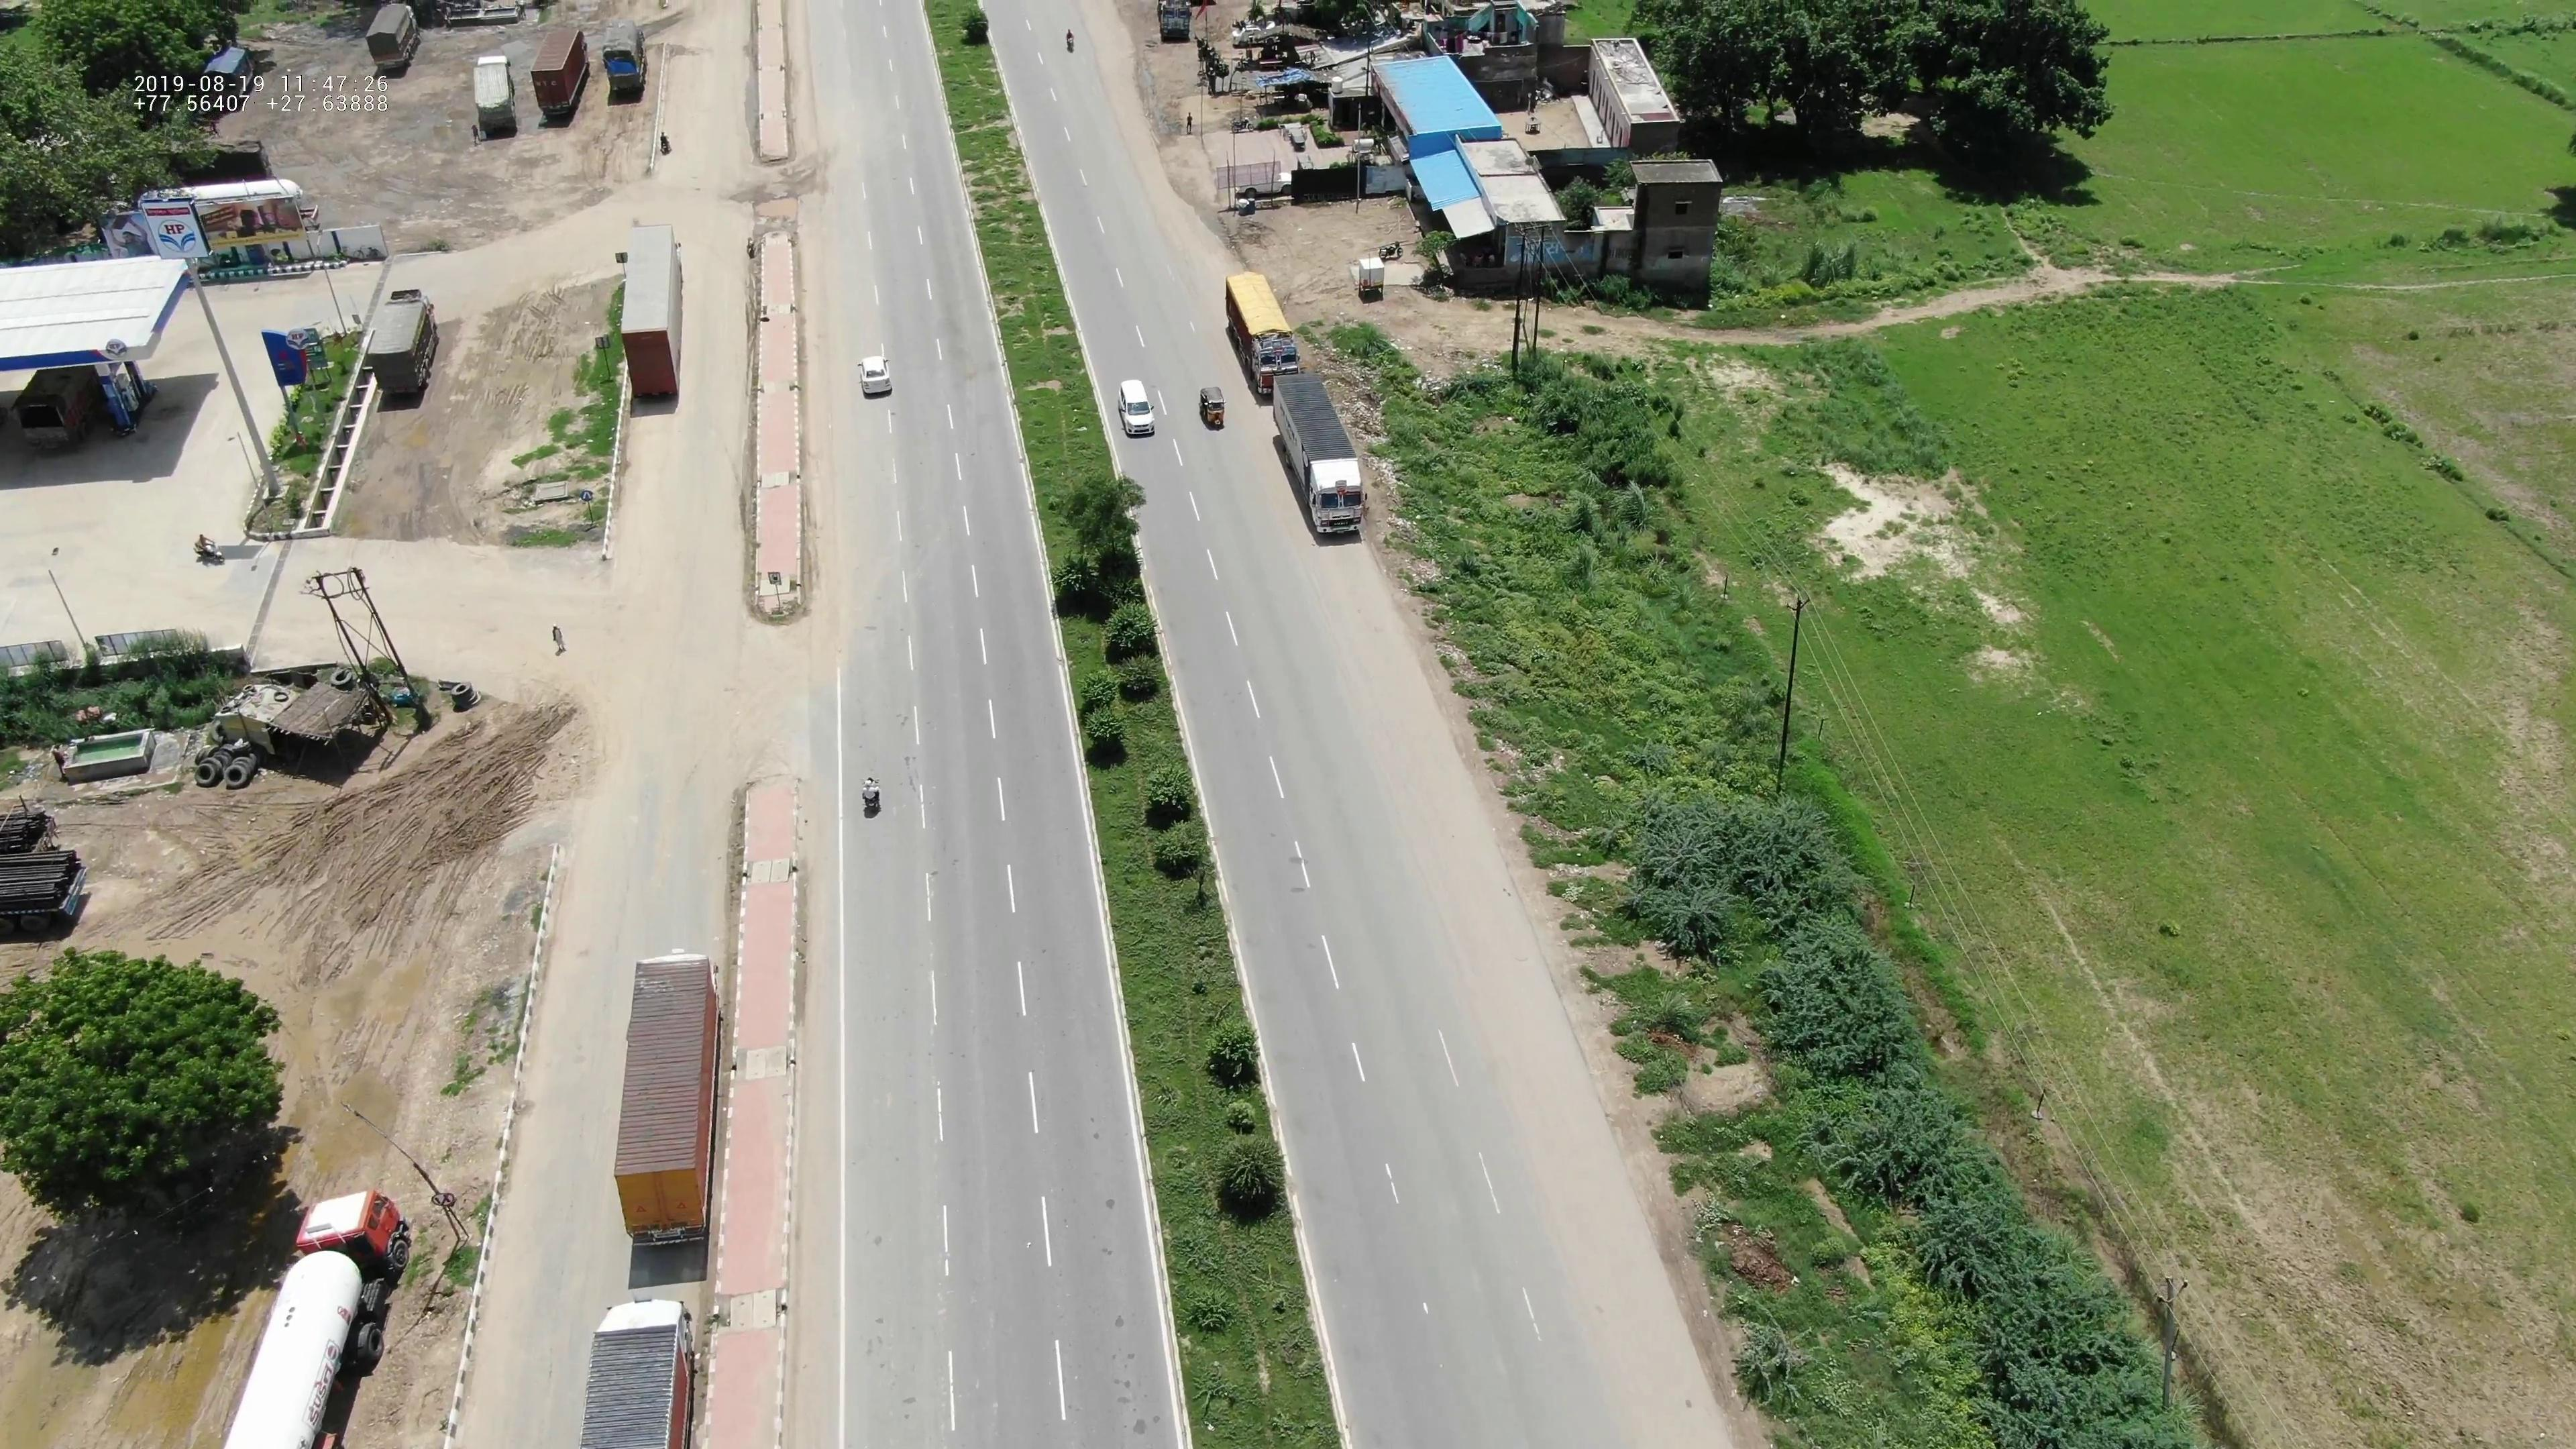Muddy_road: (630, 464, 738, 669), (791, 209, 879, 377), (817, 405, 888, 603)
